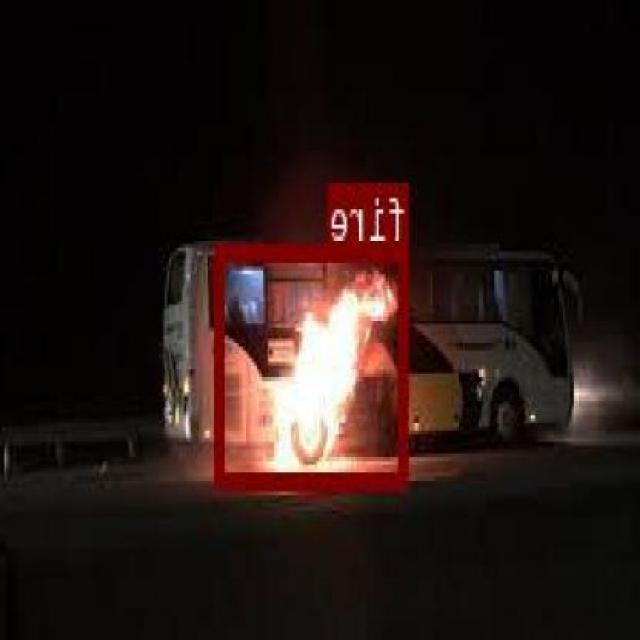Fire: (216, 243, 410, 484)
